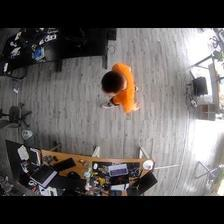normal: (99, 62, 141, 113)
